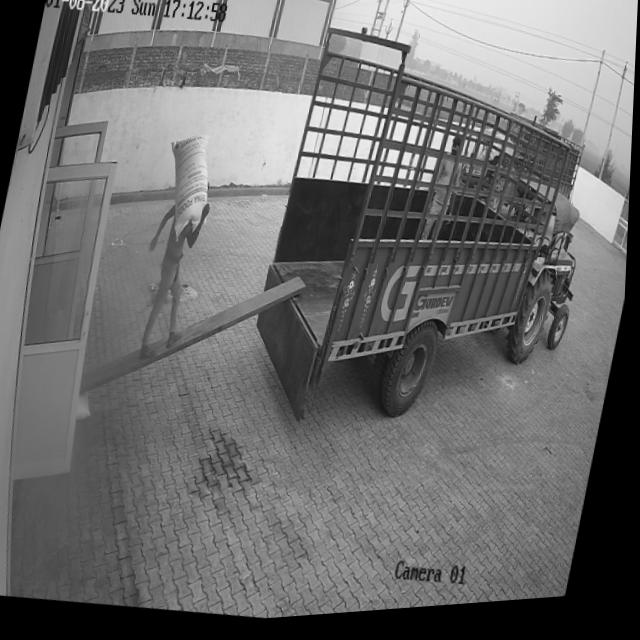sack: (154, 132, 222, 248)
